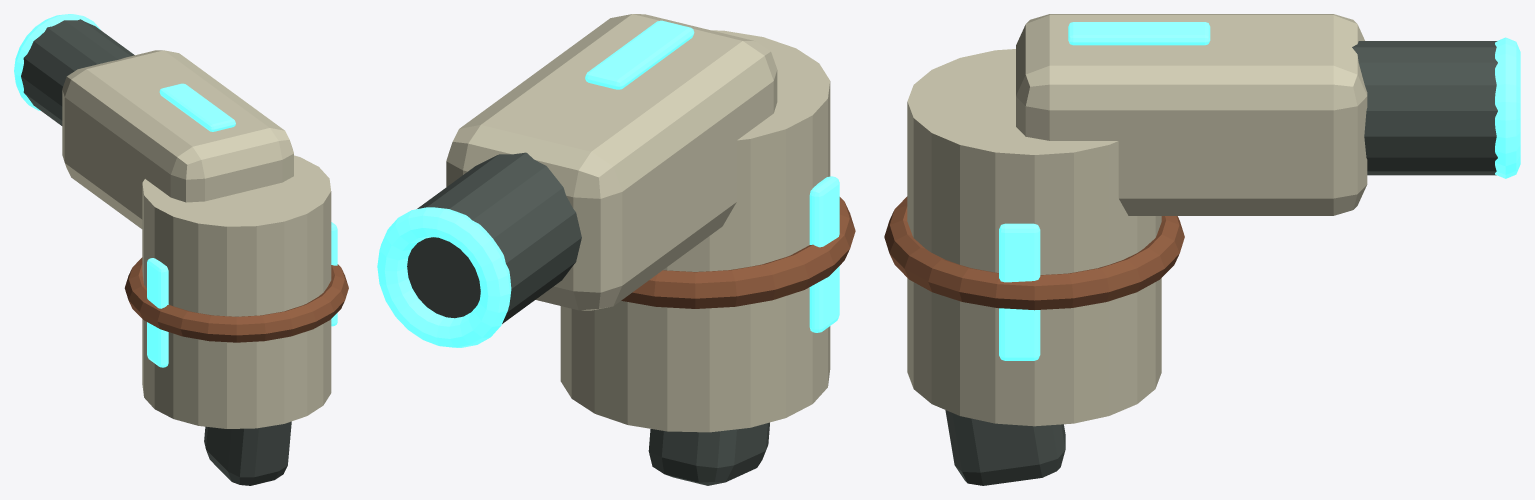
The model's file is Water_Tool_Pickup.glb.
The picture shows the model from 3 angles, left to right: view 1: azimuth 30°, elevation 25°; view 2: azimuth 150°, elevation 25°; view 3: azimuth 270°, elevation 25°; orthographic projection. The views are drawn at different scales.
Visible parts, largest first — view 1: Water reservoir, Pump housing, Tank belt, Nozzle, Grip, Reservoir gauge, Charge strip, Nozzle ring, Reservoir gauge.001; view 2: Pump housing, Water reservoir, Nozzle, Nozzle ring, Tank belt, Grip, Reservoir gauge, Charge strip; view 3: Water reservoir, Pump housing, Nozzle, Tank belt, Grip, Reservoir gauge.001, Nozzle ring, Charge strip.
Boxes of the visible parts, bbox=[...] form: Water reservoir: bbox=[142, 155, 331, 428]; Pump housing: bbox=[62, 50, 293, 228]; Tank belt: bbox=[124, 257, 348, 342]; Nozzle: bbox=[21, 19, 134, 125]; Grip: bbox=[204, 421, 291, 485]; Reservoir gauge: bbox=[147, 258, 168, 367]; Charge strip: bbox=[159, 83, 235, 131]; Nozzle ring: bbox=[14, 14, 100, 110]; Reservoir gauge.001: bbox=[331, 222, 337, 326]; Pump housing: bbox=[446, 14, 777, 310]; Water reservoir: bbox=[560, 30, 830, 432]; Nozzle: bbox=[407, 152, 581, 323]; Nozzle ring: bbox=[377, 207, 511, 347]; Tank belt: bbox=[621, 197, 855, 308]; Grip: bbox=[648, 422, 769, 485]; Reservoir gauge: bbox=[809, 176, 839, 332]; Charge strip: bbox=[585, 20, 694, 89]; Water reservoir: bbox=[907, 49, 1161, 426]; Pump housing: bbox=[1016, 14, 1367, 215]; Nozzle: bbox=[1352, 41, 1497, 175]; Tank belt: bbox=[884, 196, 1184, 310]; Grip: bbox=[945, 410, 1065, 485]; Reservoir gauge.001: bbox=[999, 223, 1040, 360]; Nozzle ring: bbox=[1495, 37, 1520, 178]; Charge strip: bbox=[1068, 22, 1210, 45].
Bounding box in the file's own units: 0.402 × 0.6618 × 0.851.
